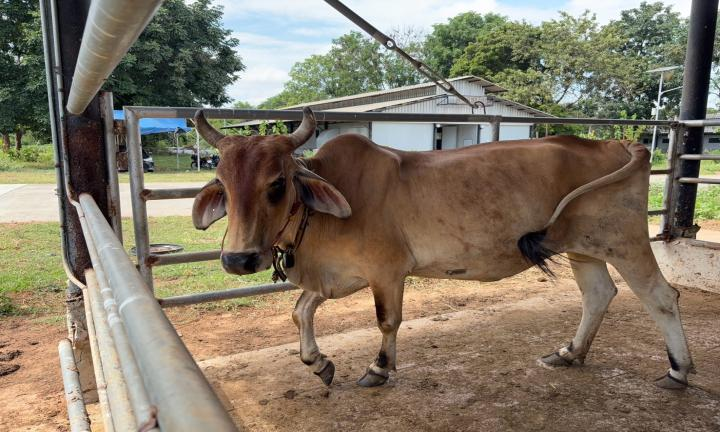Brahman: (193, 108, 694, 388)
